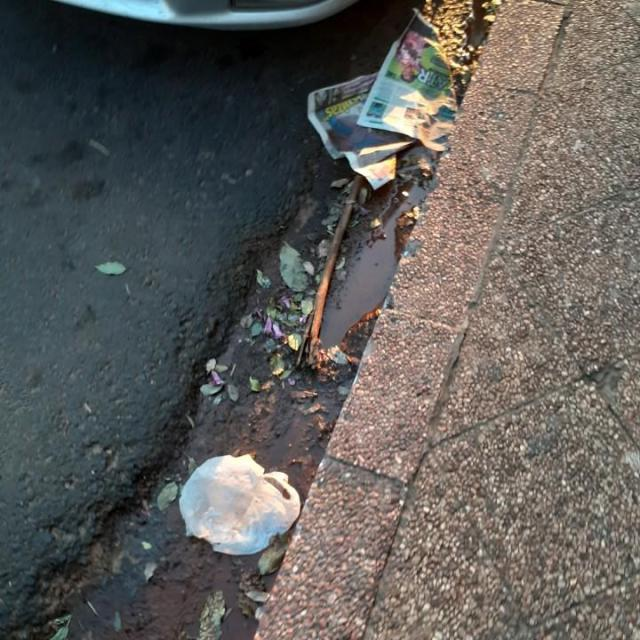litter: (293, 7, 476, 195), (175, 450, 305, 560)
